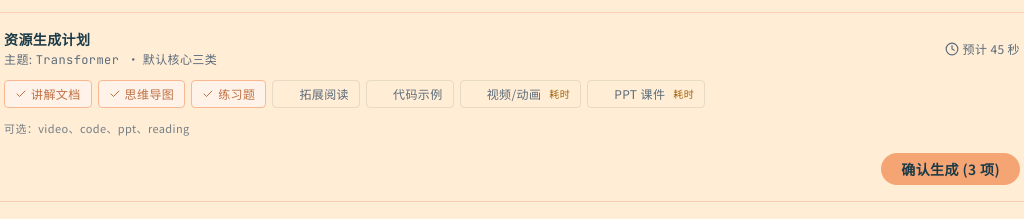
Test case: ResourcePlanCard › disables the confirm button when nothing is selected
Click the button with test id "plan-toggle-document" at (48,94), box [4, 80, 92, 108]
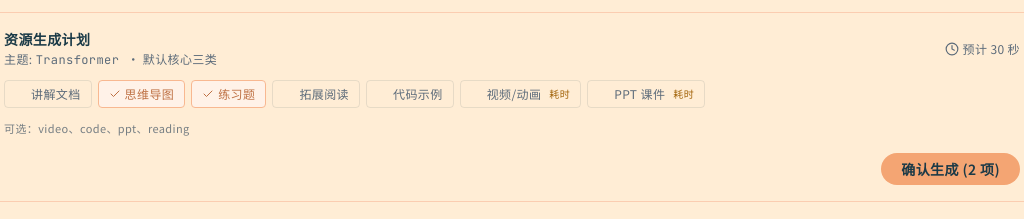
Click the button "思维导图" at (141,94), box [98, 80, 185, 108]
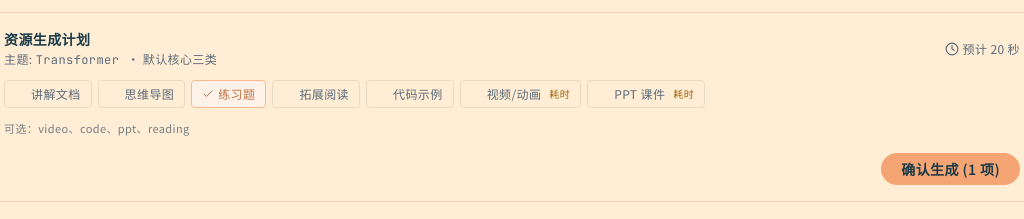
Click the button "练习题" at (229,94), box [191, 80, 266, 108]
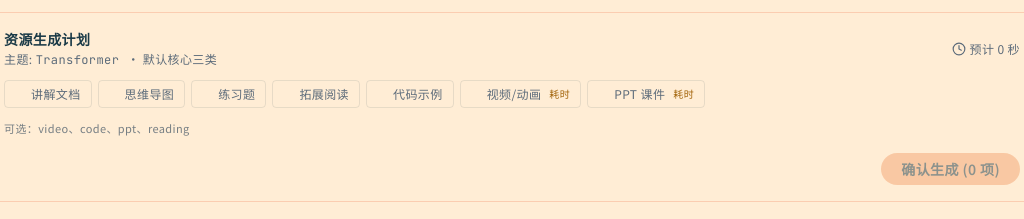
Expected: the button with test id "plan-confirm" is disabled, [881, 152, 1020, 184]
